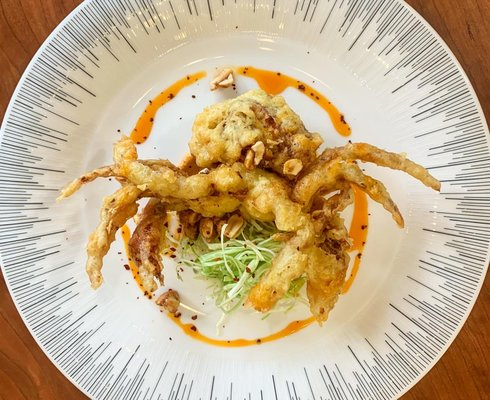curry: (6, 0, 487, 396)
